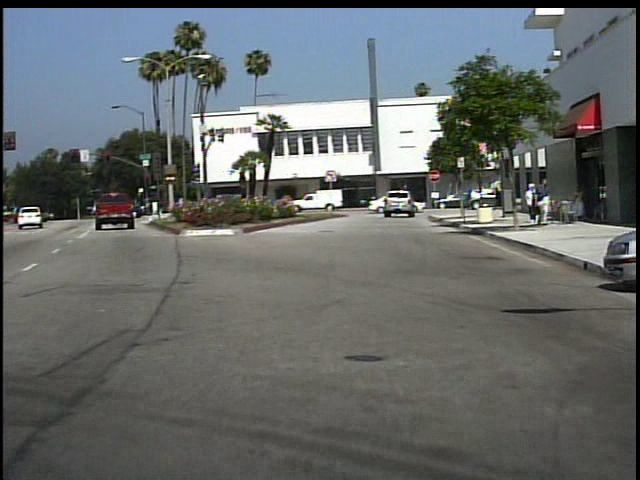person: (536, 177, 553, 229), (485, 183, 508, 216), (370, 189, 391, 218), (571, 182, 585, 223), (523, 181, 537, 222)
